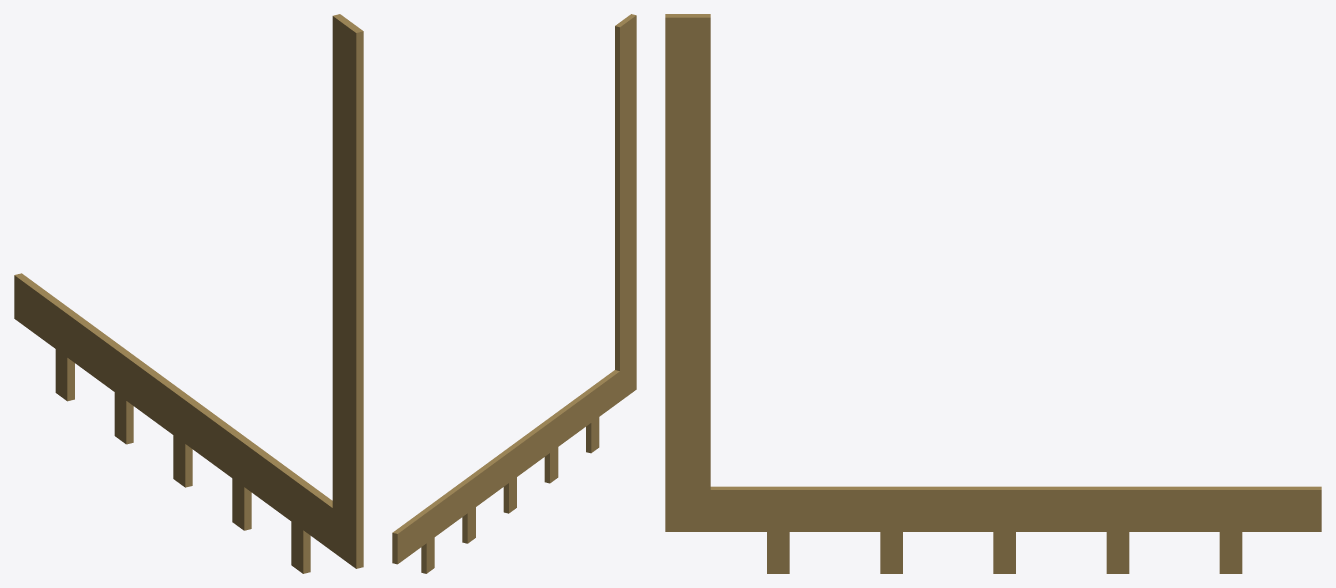
Rendered from chart.fbx.
3 views of the same model, side by side, from view 1: azimuth 30°, elevation 25°; view 2: azimuth 150°, elevation 25°; view 3: azimuth 270°, elevation 25° (orthographic). The views are drawn at different scales.
Parts seen in each view (by area): view 1: pCube1, pCube2, pCube3, pCube5, pCube4, pCube7, pCube6; view 2: pCube2, pCube1, pCube4, pCube6, pCube7, pCube5, pCube3; view 3: pCube2, pCube1, pCube7, pCube6, pCube3, pCube4, pCube5.
Part boxes in pixels (<box>): pCube1: <box>332,14,363,568</box>; pCube2: <box>14,273,333,551</box>; pCube3: <box>291,520,310,573</box>; pCube5: <box>173,434,192,487</box>; pCube4: <box>232,478,251,530</box>; pCube7: <box>55,348,74,401</box>; pCube6: <box>114,392,133,444</box>; pCube2: <box>392,368,626,564</box>; pCube1: <box>615,14,636,401</box>; pCube4: <box>544,446,558,483</box>; pCube6: <box>462,506,475,543</box>; pCube7: <box>421,536,434,573</box>; pCube5: <box>503,476,516,513</box>; pCube3: <box>586,417,599,453</box>; pCube2: <box>693,486,1321,531</box>; pCube1: <box>665,14,710,531</box>; pCube7: <box>1219,530,1242,573</box>; pCube6: <box>1106,530,1129,573</box>; pCube3: <box>767,530,789,573</box>; pCube4: <box>880,530,902,573</box>; pCube5: <box>993,530,1015,573</box>.
Size of the model in its own units: 0.00183 by 0.1356 by 0.145.
